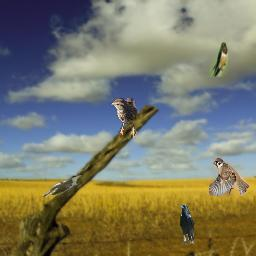Crow: (180, 204, 194, 244)
Cuckoo: (42, 175, 82, 197)
Sparrow: (209, 158, 249, 196), (110, 98, 137, 138)
Swallow: (209, 42, 228, 77)
